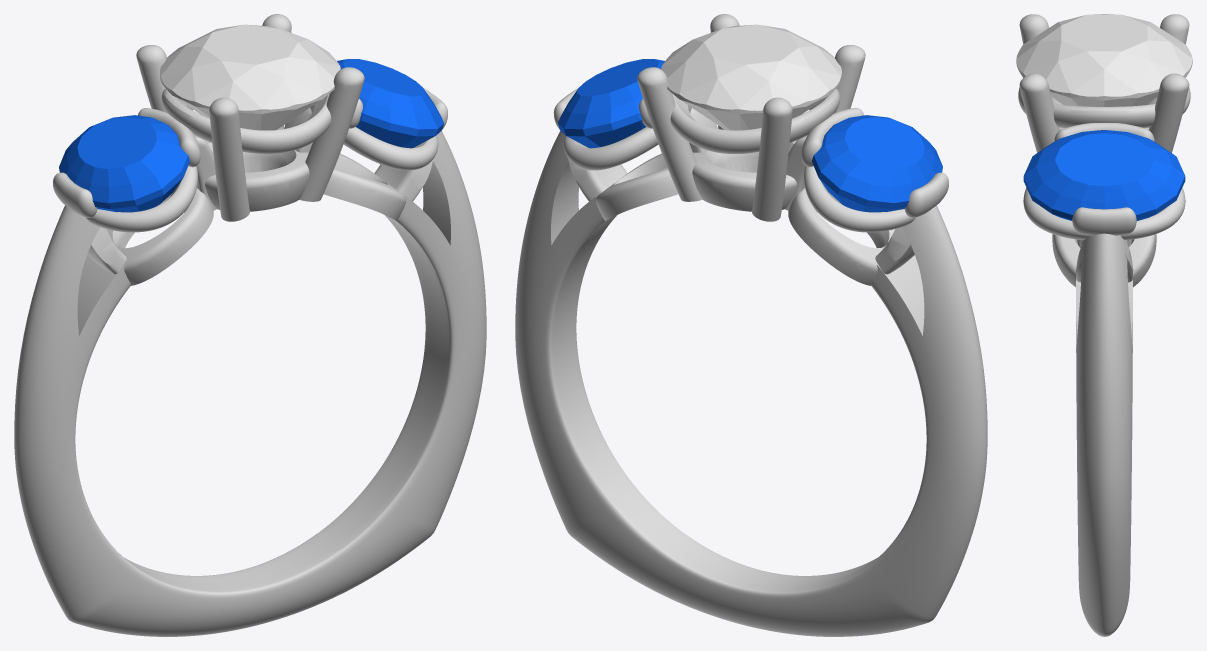
File: RussellNewEuro_blender.glb
3 renders of one model, left to right at view 1: azimuth 30°, elevation 25°; view 2: azimuth 150°, elevation 25°; view 3: azimuth 270°, elevation 25°, orthographic. The views are drawn at different scales.
Visible parts, largest first — view 1: Russell PT euro shank for 3d model, Russell dia for 3d model, Russell sapph for 3d model.001, Russell sapph for 3d model; view 2: Russell PT euro shank for 3d model, Russell dia for 3d model, Russell sapph for 3d model.001, Russell sapph for 3d model; view 3: Russell PT euro shank for 3d model, Russell dia for 3d model, Russell sapph for 3d model.
Boxes of the visible parts, bbox=[...] form: Russell PT euro shank for 3d model: bbox=[14, 14, 486, 636]; Russell dia for 3d model: bbox=[160, 24, 340, 130]; Russell sapph for 3d model.001: bbox=[59, 115, 189, 212]; Russell sapph for 3d model: bbox=[337, 59, 443, 148]; Russell PT euro shank for 3d model: bbox=[515, 14, 987, 636]; Russell dia for 3d model: bbox=[661, 24, 841, 130]; Russell sapph for 3d model.001: bbox=[812, 115, 942, 212]; Russell sapph for 3d model: bbox=[558, 59, 664, 148]; Russell PT euro shank for 3d model: bbox=[1018, 14, 1190, 636]; Russell dia for 3d model: bbox=[1016, 14, 1192, 106]; Russell sapph for 3d model: bbox=[1023, 130, 1185, 220].
Bounding box in the file's own units: 21.12 × 25.03 × 7.08.
